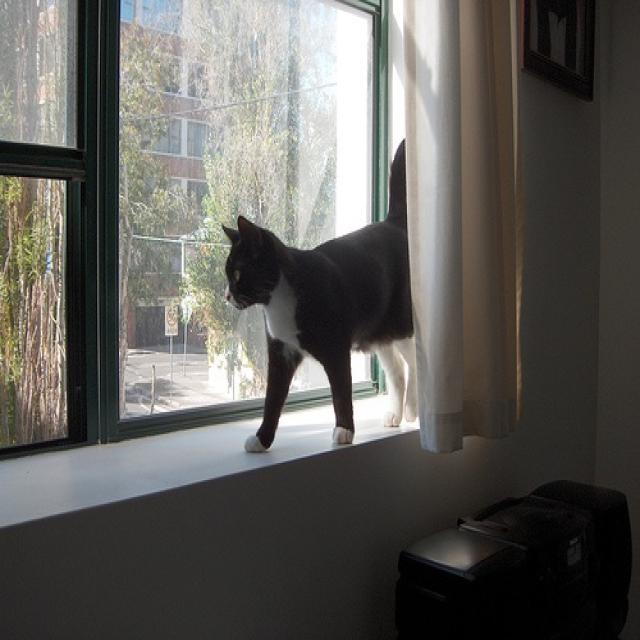cat: (222, 136, 418, 451)
